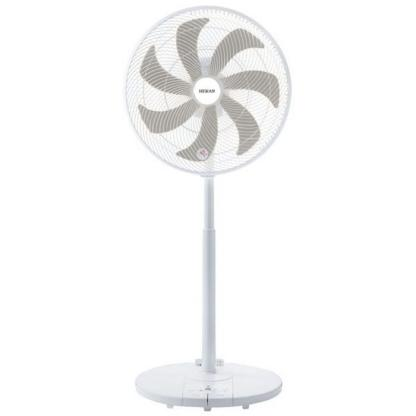fan: (121, 2, 297, 412)
